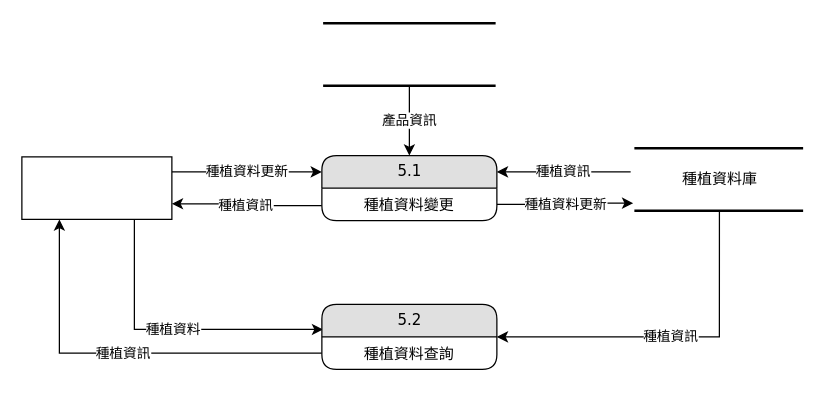
This 826x394 diagram has some shape labels left out. The centre of each missing label's shape, as x and y in pixels:
溫室管理者: (x=96, y=187)
產品資料庫: (x=408, y=53)
